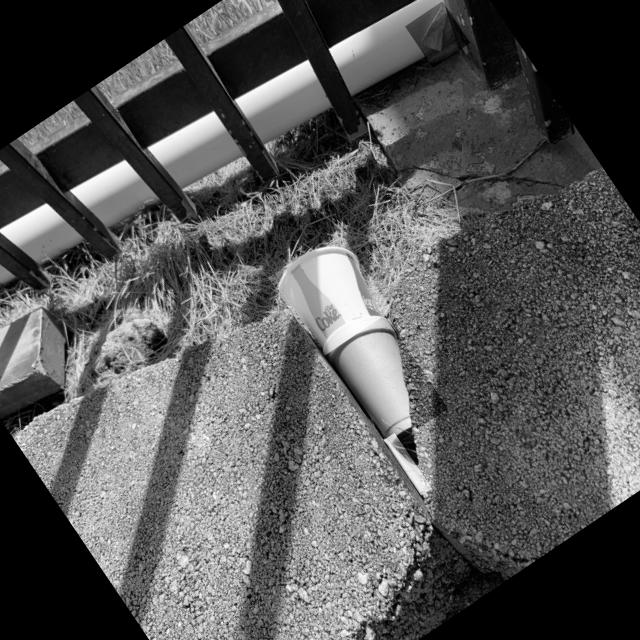Cup: (324, 315, 413, 444), (279, 246, 383, 348)
Plastic film: (385, 439, 424, 495)
Unlabeled litter: (420, 2, 461, 63)
